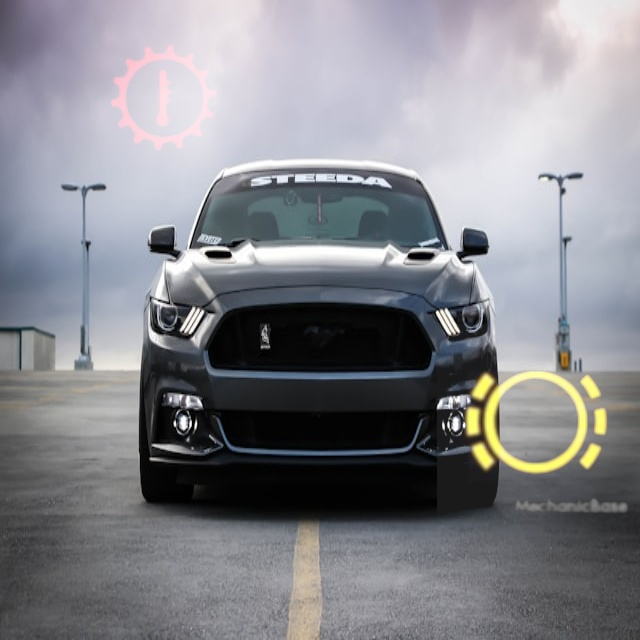symbol: (437, 324, 635, 522), (67, 1, 264, 198)
